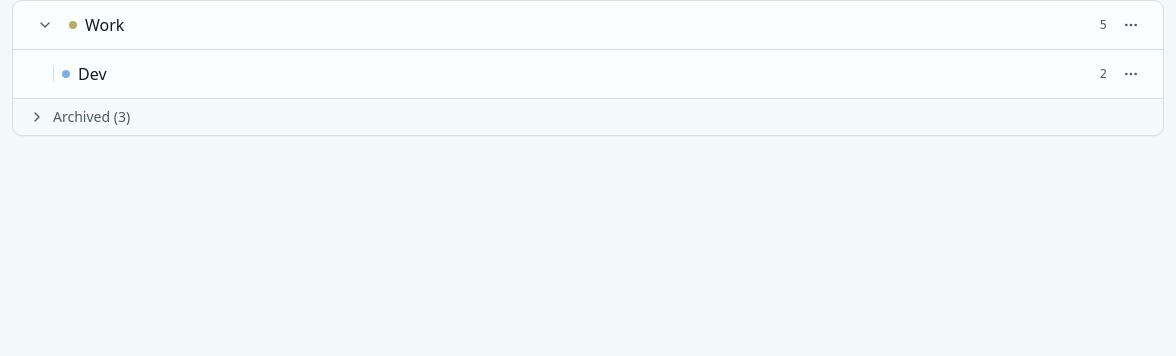
Test: HierarchicalListCard 归档分区（分类） › 归档区默认折叠，展开后归档行菜单为 取消归档 + 删除（无添加子项）
The width and height of the screenshot is (1176, 356).
Expected: the text "Archived (3)" is shown, [53,107,130,127]
Expected: the text "Old" is not shown
Click the button with aria-label "Expand archived categories".
click(92, 116)  # box [13,99,1163,135]
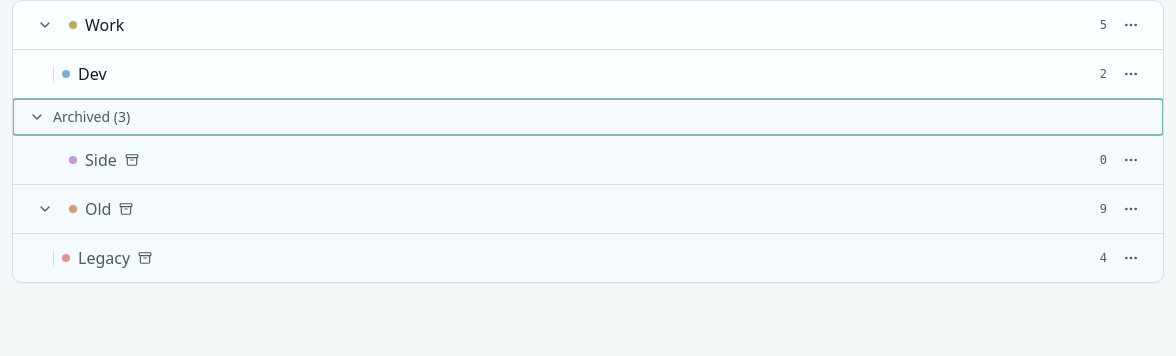
Result: the text "Old" is shown at [85,197,112,221]
Result: the text "Legacy" is shown at [78,246,130,270]
Click the button named "More actions" in the row of "Old".
click(1131, 209)  # box [1115,193,1147,225]
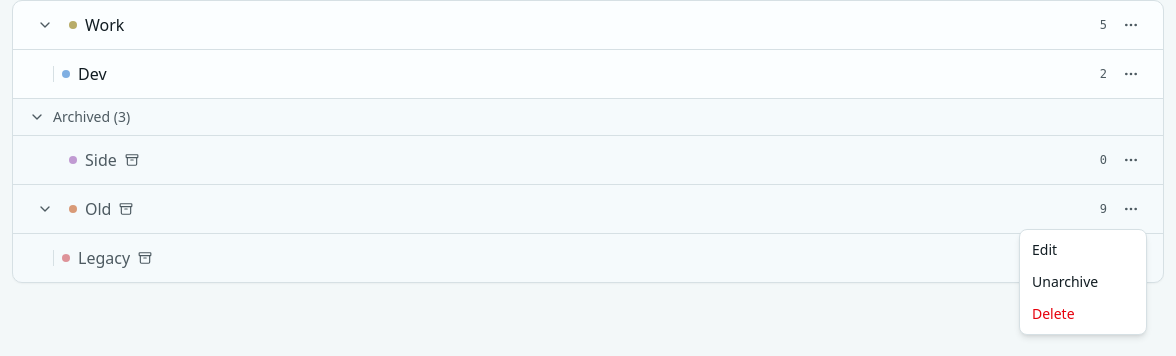
Result: the menu items read "Edit", "Unarchive", "Delete", in this order at [1032,240,1057,259]; [1032,272,1098,291]; [1032,304,1075,323]
Press Escape
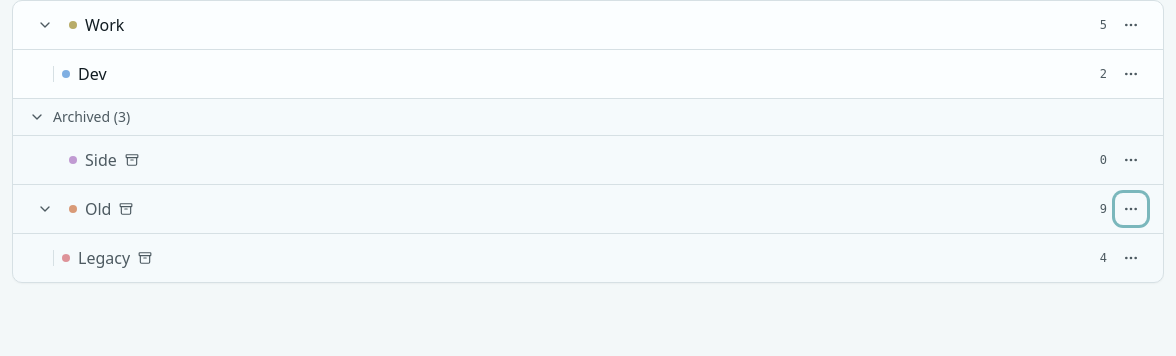
Expected: the text "Work" is shown, [85,14,124,36]
Click the button named "More actions" in the row of "Work".
click(1131, 25)  # box [1115,9,1147,41]
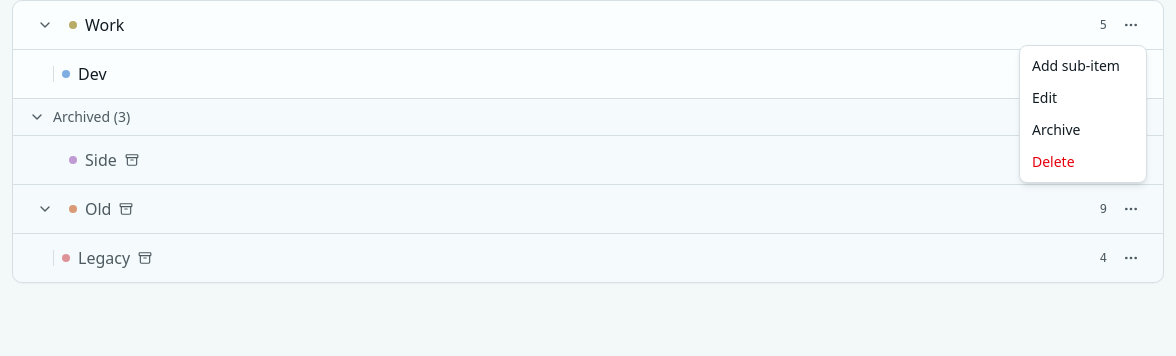
Result: the menu item "Archive" is shown at [1032,120,1080,139]
Press Escape
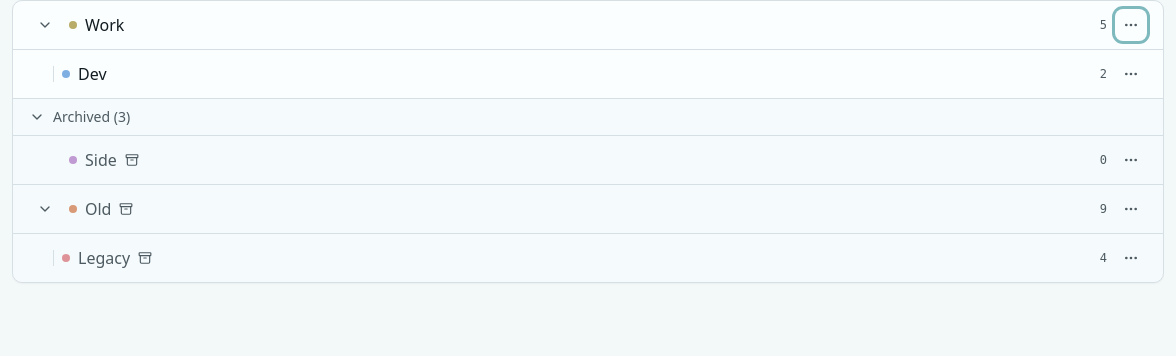
Click the button with aria-label "Collapse archived categories".
click(92, 116)  # box [13,99,1163,135]
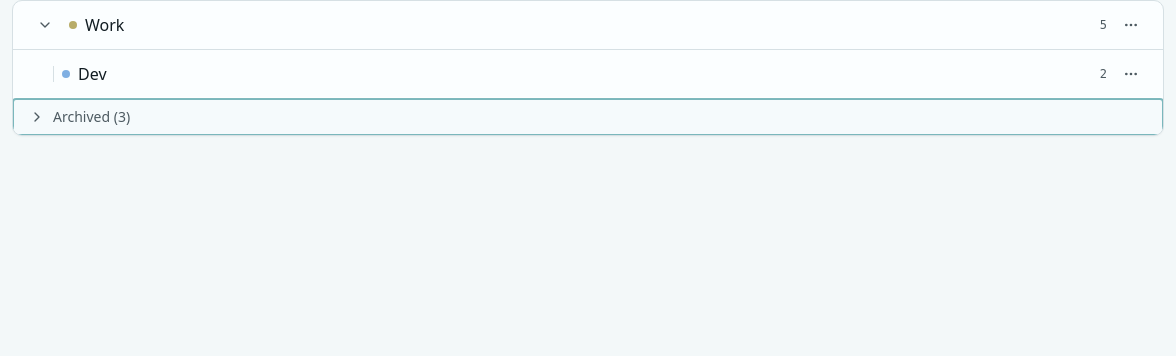
Result: the text "Old" is gone
